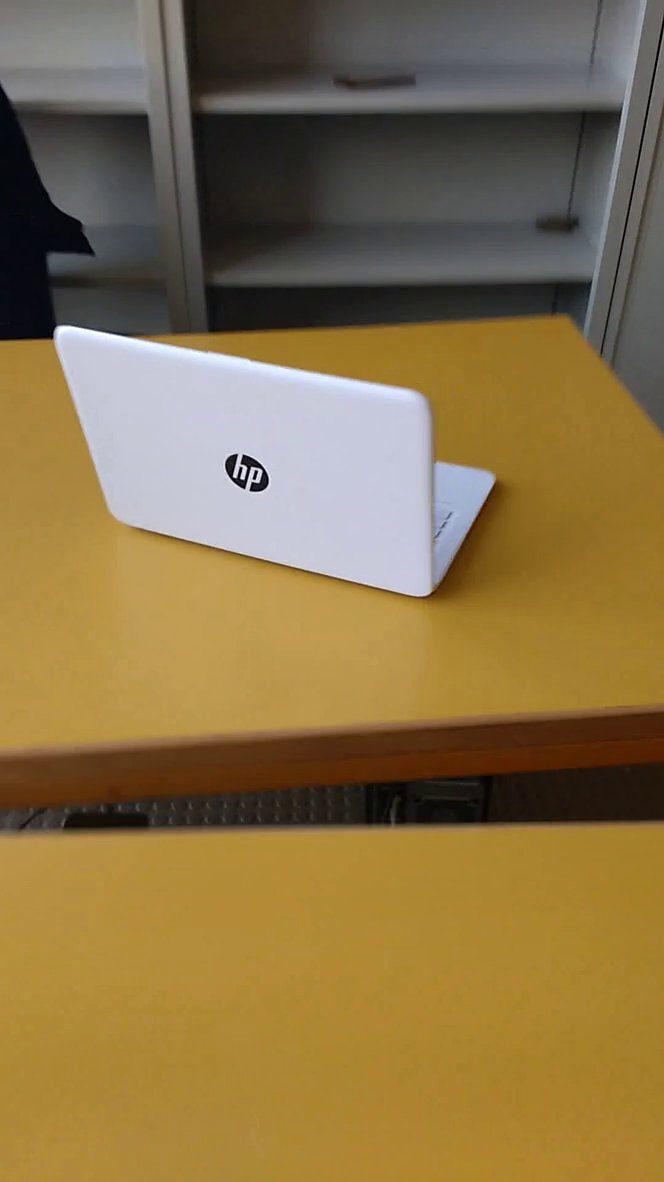laptop: (44, 313, 508, 607)
